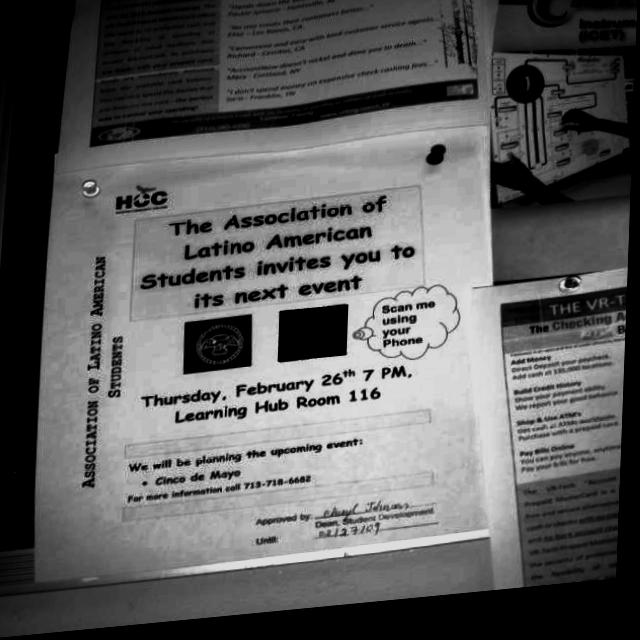qr_code: (281, 312, 351, 368)
